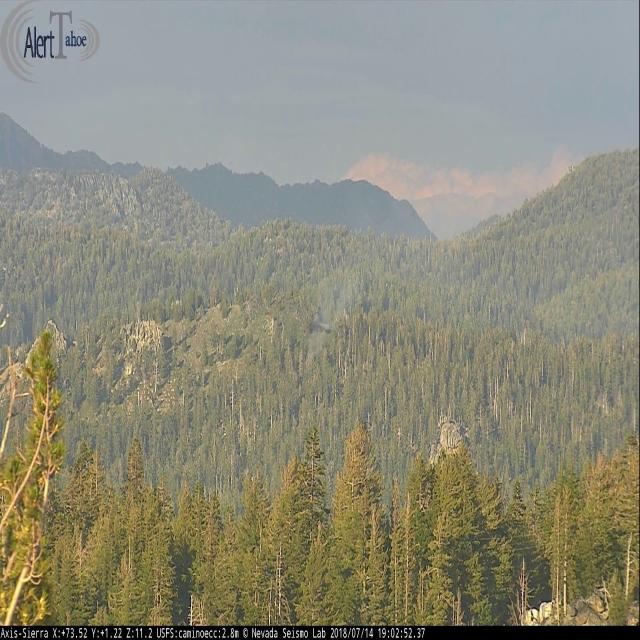smoke: (301, 210, 406, 368)
